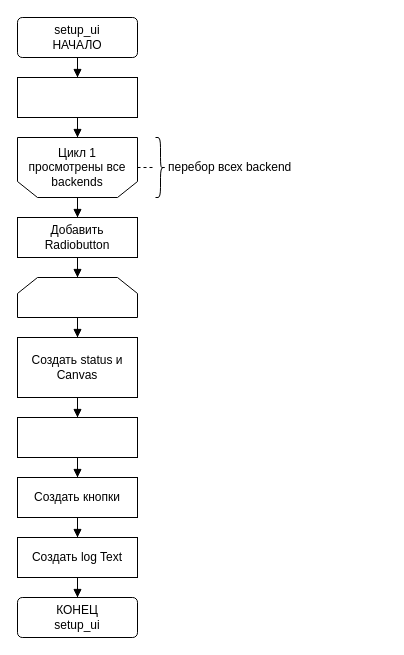
This 404x655 diagram has some shape labels left out. Each missing label, with the centre of its shape:
Создать панель backend: (77,97)
Создать поля ввода: (77,437)
Цикл 1: (77,297)
